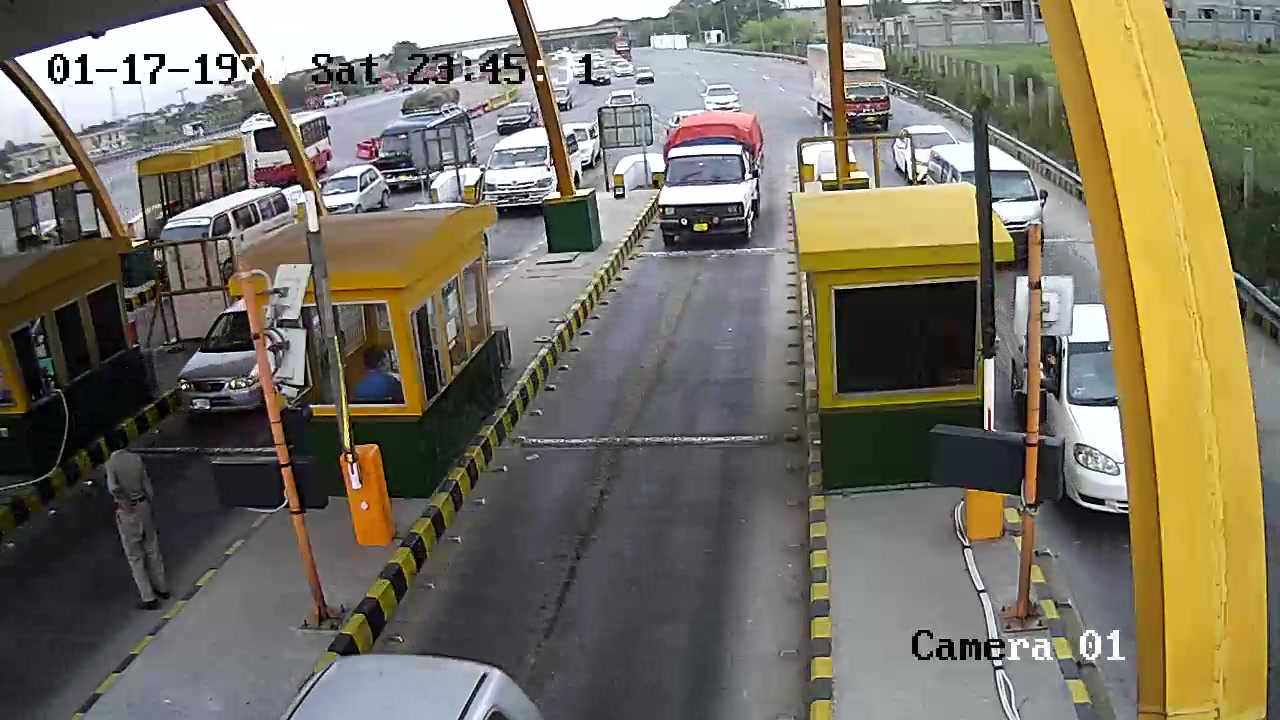F3: (660, 106, 766, 246)
